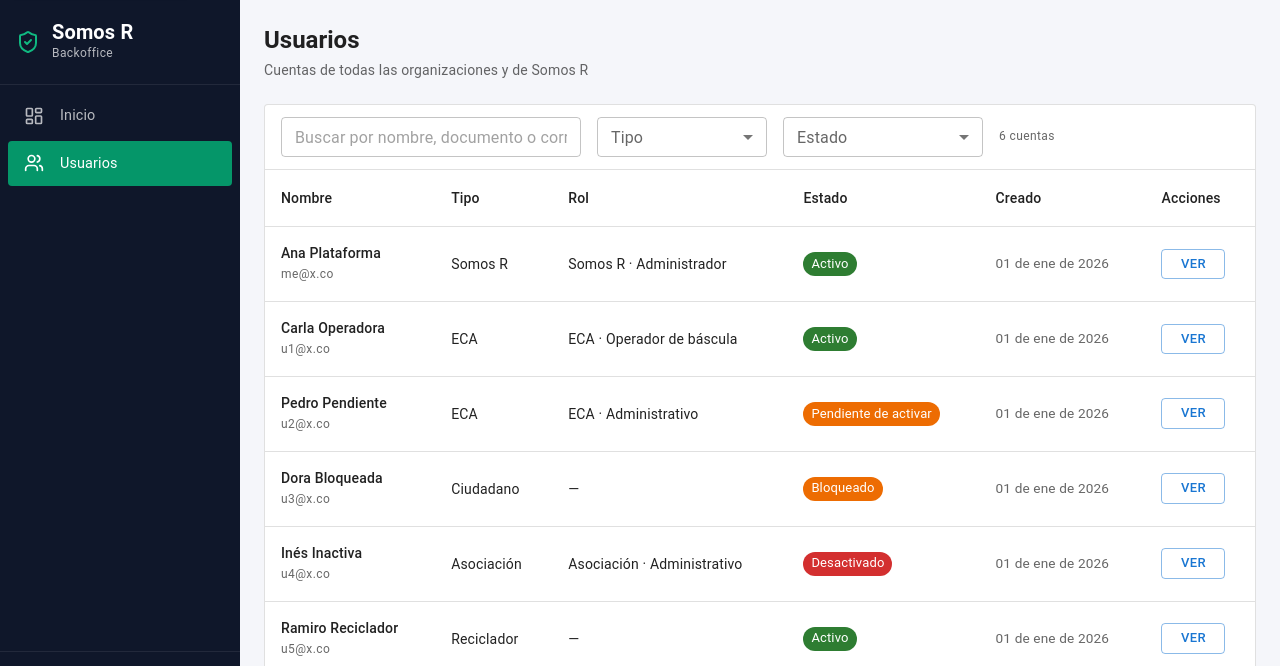
it: an account's detail and actions › opens the full profile with its security state
The width and height of the screenshot is (1280, 666).
Click the button "Ver" in the row of "Carla Operadora" at (1194, 339), box [1162,324,1226,354]
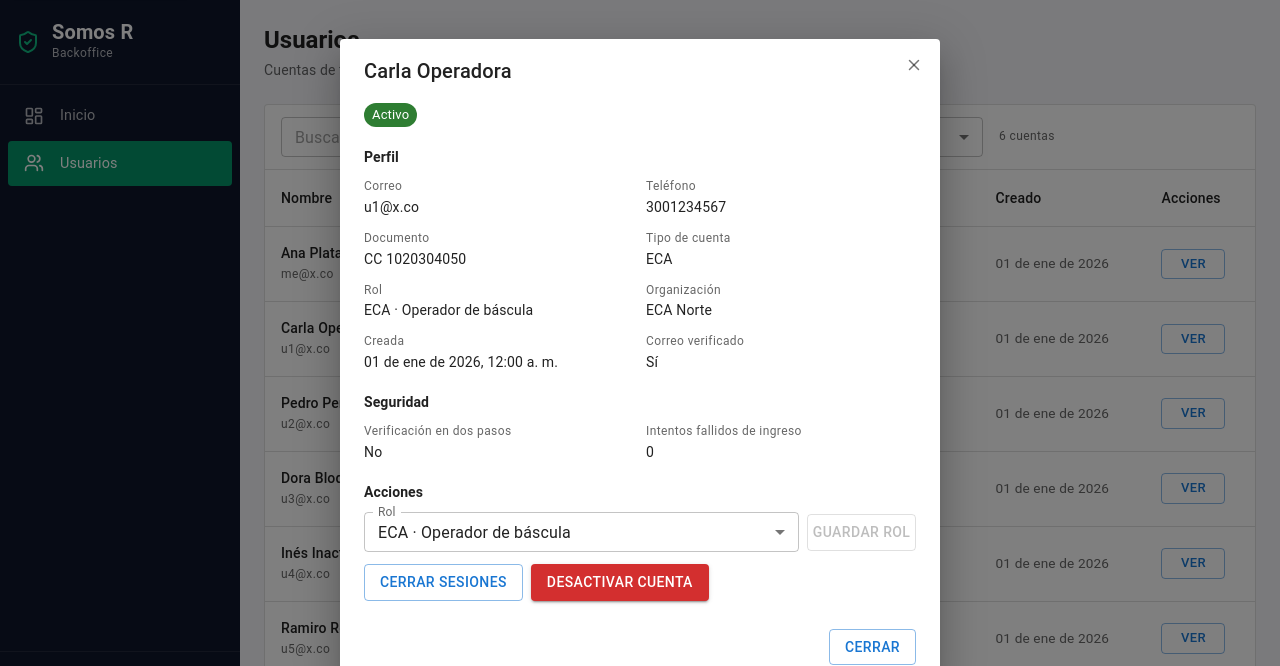
Result: the text "u1@x.co" is shown at [364,199,419,215]
Result: the text "ECA Norte" is shown at [646,302,712,318]
